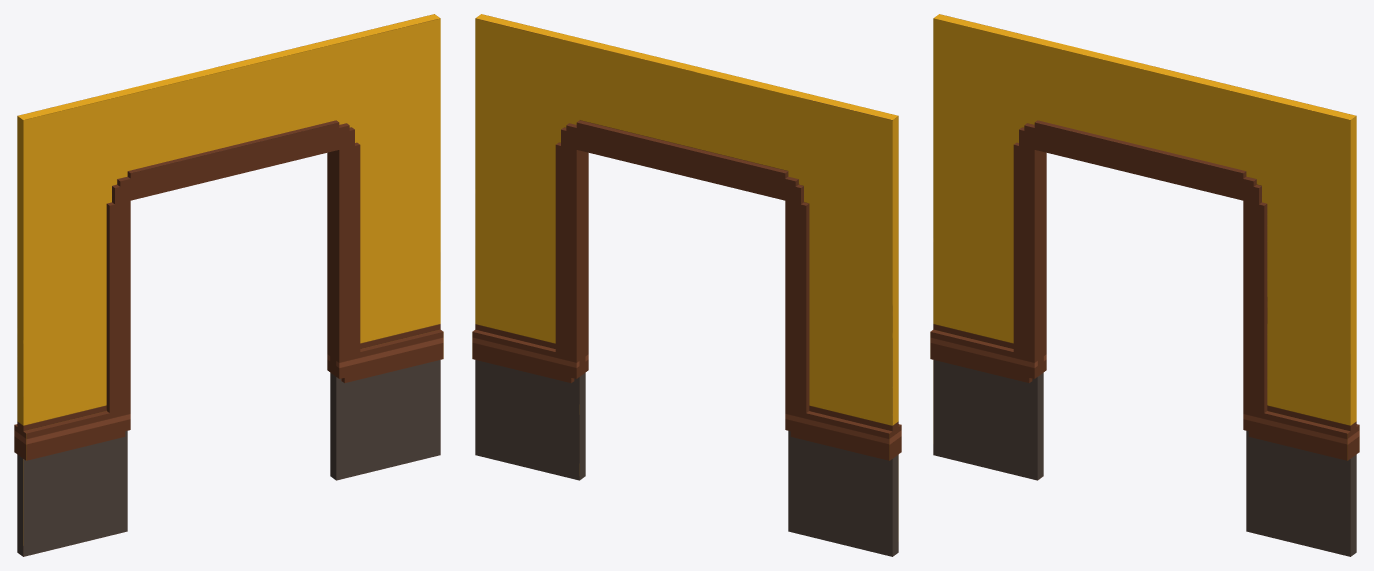
Rendered from IKEA_Pasillo.fbx.
3 renders of one model, left to right at view 1: azimuth 30°, elevation 25°; view 2: azimuth 150°, elevation 25°; view 3: azimuth 330°, elevation 25°, orthographic.
Parts seen in each view (by area): view 1: IKEA_Pasillo; view 2: IKEA_Pasillo; view 3: IKEA_Pasillo.
Boxes of the visible parts, box(x1,y1,x2,y2) form: IKEA_Pasillo: box(14, 14, 443, 556); IKEA_Pasillo: box(472, 14, 901, 556); IKEA_Pasillo: box(930, 14, 1359, 556).
Size of the model in its own units: 800 by 800 by 40.
